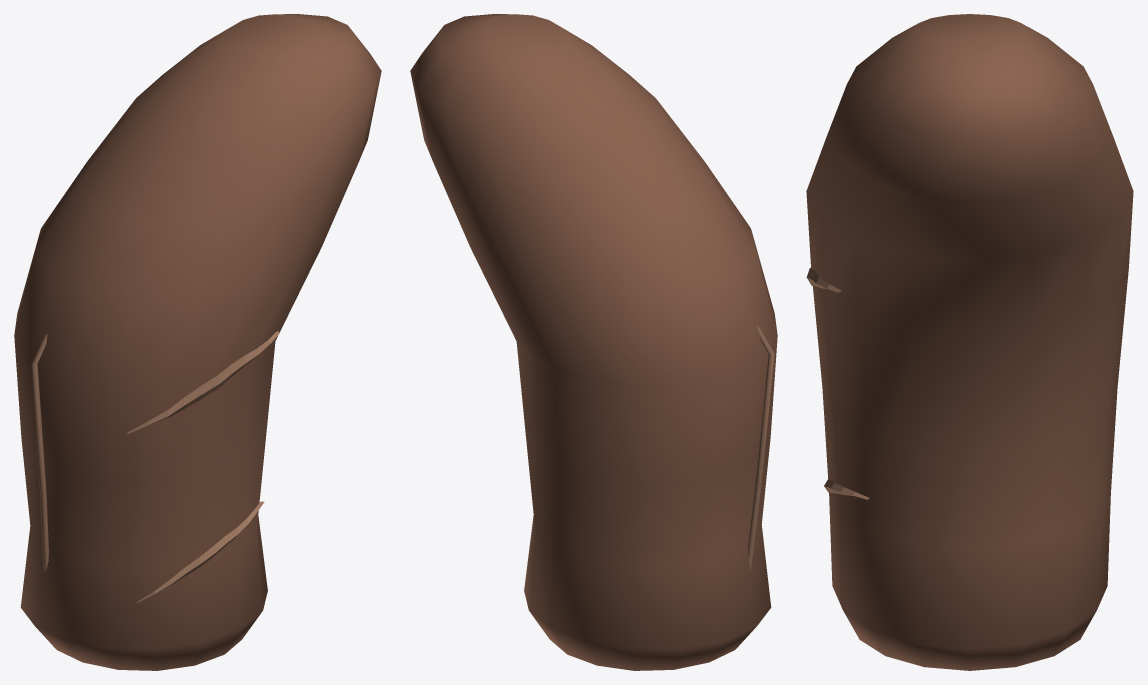
The model's file is AdaUpperL.glb.
3 renders of one model, left to right at view 1: azimuth 30°, elevation 25°; view 2: azimuth 150°, elevation 25°; view 3: azimuth 270°, elevation 25°, orthographic. The views are drawn at different scales.
Visible parts, largest first — view 1: AdaUpperL; view 2: AdaUpperL; view 3: AdaUpperL.
Part boxes in pixels (x1,y1,x2,y2): AdaUpperL: (14,14,381,670); AdaUpperL: (410,14,777,670); AdaUpperL: (806,14,1133,670).
Bounding box in the file's own units: 0.284 × 0.4458 × 0.1973.
